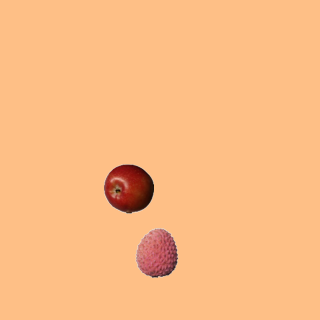Apple Braeburn: (103, 163, 153, 213)
Lychee: (131, 227, 181, 277)
